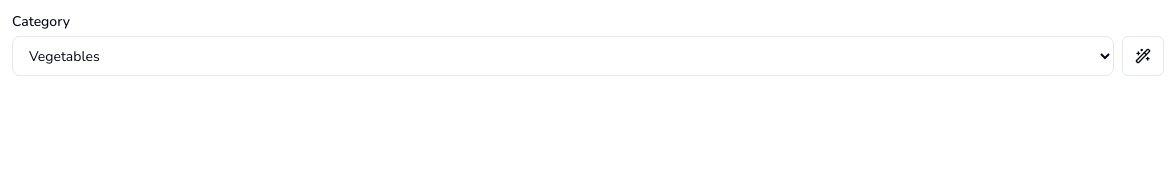
Test case: SmartCategorySelector › applies and dismisses a suggestion
Click the button named "smart suggest" at (1143, 56), box [1122,36,1164,76]
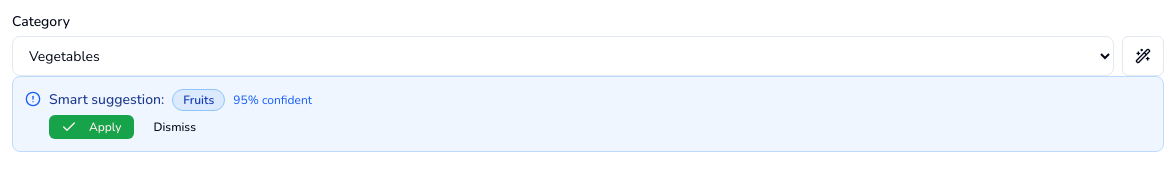
Now the text "Smart suggestion:" is shown, box [49,90,164,110]
Click the button "Apply" at (91, 127), box [49,115,134,139]
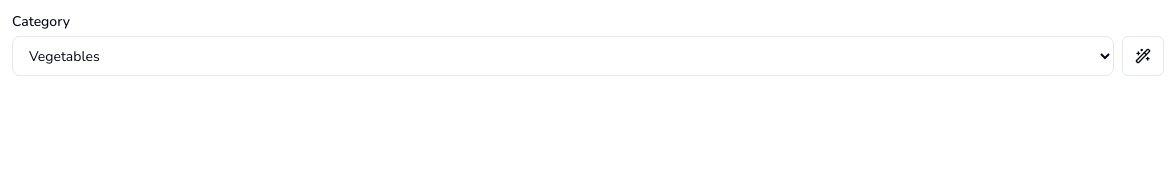
Dismiss (re-render to show again)
Click the button named "smart suggest" at (1143, 56), box [1122,36,1164,76]
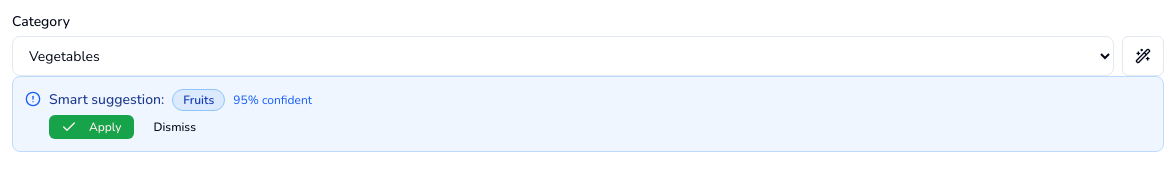
Now the text "Smart suggestion:" is shown, box [49,90,164,110]
Click the button "Dismiss" at (175, 127), box [142,115,208,139]
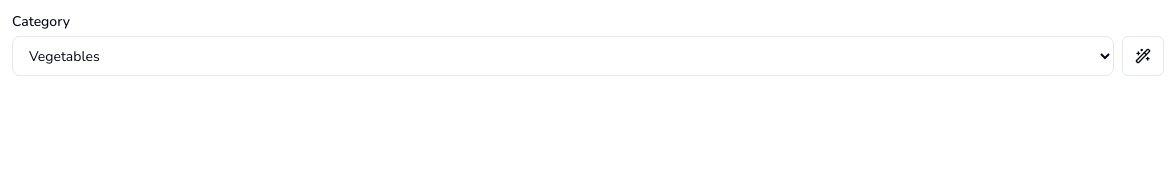
Now the text "Smart suggestion:" is gone
